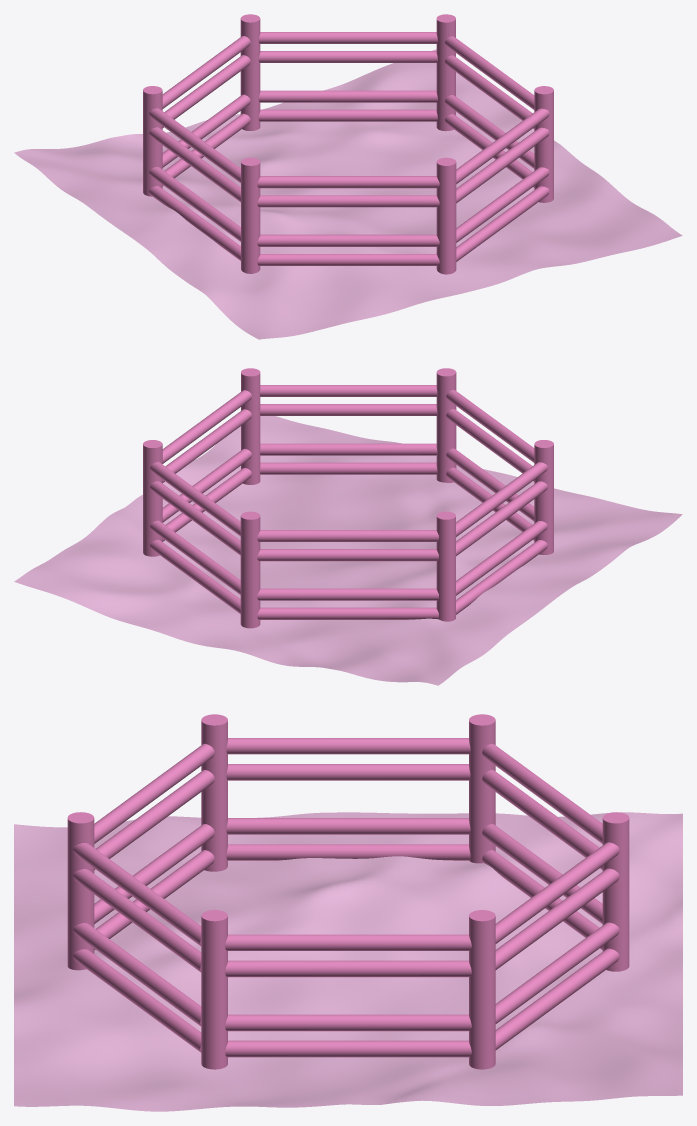
3 renders of one model, top to bottom at view 1: azimuth 30°, elevation 25°; view 2: azimuth 150°, elevation 25°; view 3: azimuth 270°, elevation 25°, orthographic. The views are drawn at different scales.
Parts seen in each view (by area): view 1: pPlane1, pCylinder15, pCylinder16, pCylinder17, pCylinder30, pCylinder29, pCylinder4, pCylinder5, pCylinder18, pCylinder27, pCylinder28, pCylinder1 (+19 smaller); view 2: pPlane1, pCylinder24, pCylinder25, pCylinder26, pCylinder1, pCylinder13, pCylinder14, pCylinder23, pCylinder11, pCylinder12, pCylinder6, pCylinder4 (+19 smaller); view 3: pPlane1, pCylinder8, pCylinder9, pCylinder10, pCylinder2, pCylinder3, pCylinder7, pCylinder19, pCylinder20, pCylinder21, pCylinder22, pCylinder5 (+19 smaller).
Part boxes in pixels (<box>): pPlane1: <box>14,49,682,339</box>; pCylinder15: <box>257,176,439,188</box>; pCylinder16: <box>257,195,439,207</box>; pCylinder17: <box>257,234,439,246</box>; pCylinder30: <box>258,109,437,121</box>; pCylinder29: <box>258,90,437,102</box>; pCylinder4: <box>436,157,456,274</box>; pCylinder5: <box>241,157,260,273</box>; pCylinder18: <box>257,254,439,265</box>; pCylinder27: <box>258,32,437,43</box>; pCylinder28: <box>258,51,437,62</box>; pCylinder1: <box>240,14,260,130</box>; pPlane1: <box>14,416,682,685</box>; pCylinder24: <box>257,549,438,561</box>; pCylinder25: <box>257,588,438,600</box>; pCylinder26: <box>257,607,438,619</box>; pCylinder1: <box>240,511,260,628</box>; pCylinder13: <box>260,443,437,455</box>; pCylinder14: <box>260,462,437,474</box>; pCylinder23: <box>257,530,438,541</box>; pCylinder11: <box>260,385,437,396</box>; pCylinder12: <box>260,404,437,415</box>; pCylinder6: <box>436,511,455,621</box>; pCylinder4: <box>436,368,456,482</box>; pPlane1: <box>14,812,682,1111</box>; pCylinder8: <box>225,960,471,977</box>; pCylinder9: <box>225,1014,471,1031</box>; pCylinder10: <box>225,1040,471,1057</box>; pCylinder2: <box>469,910,495,1069</box>; pCylinder3: <box>201,910,227,1069</box>; pCylinder7: <box>225,934,471,950</box>; pCylinder19: <box>226,738,470,754</box>; pCylinder20: <box>226,764,470,780</box>; pCylinder21: <box>226,818,470,834</box>; pCylinder22: <box>226,844,470,860</box>; pCylinder5: <box>201,714,227,871</box>.
Bounding box in the file's own units: 1 × 0.2669 × 1.
